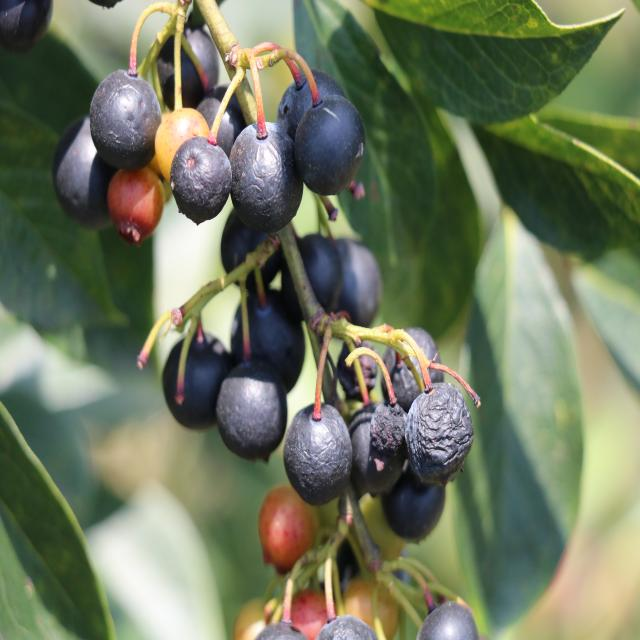blueberry: (214, 350, 285, 467), (229, 122, 300, 231), (52, 113, 121, 225), (232, 289, 304, 385), (162, 327, 228, 431), (298, 98, 366, 196), (88, 68, 158, 160), (284, 404, 346, 500), (408, 384, 470, 480), (277, 70, 346, 148), (153, 25, 216, 100), (332, 232, 382, 326), (289, 225, 339, 313), (172, 142, 232, 214), (385, 468, 444, 541), (348, 408, 399, 492), (387, 322, 436, 406), (224, 213, 281, 283), (196, 85, 250, 158), (0, 1, 59, 55), (415, 599, 477, 640), (337, 338, 376, 392), (373, 406, 412, 454), (322, 609, 372, 640)
blueberry-halfripe: (258, 481, 320, 569), (110, 162, 166, 242)
